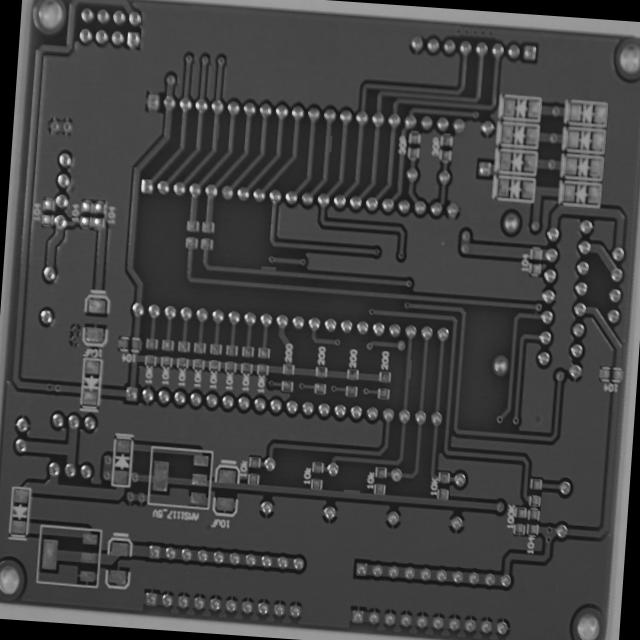spur: (338, 482, 362, 498), (322, 130, 337, 154), (256, 260, 278, 275), (402, 357, 414, 381), (210, 120, 222, 140)
